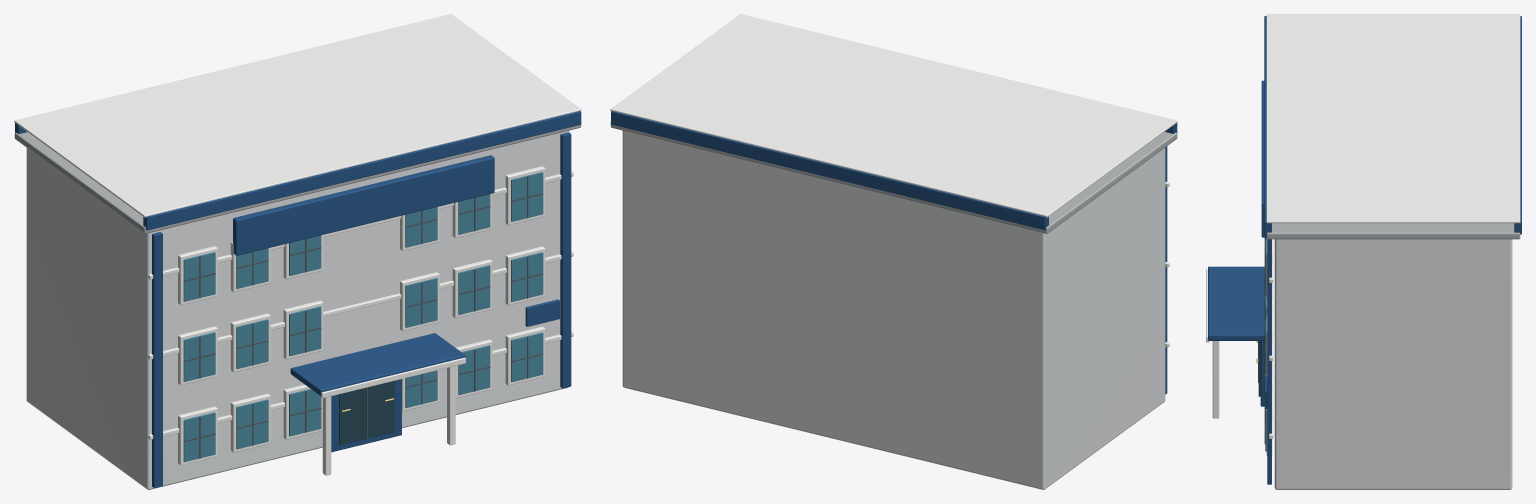
The model's file is PoliceStation.fbx.
The picture shows the model from 3 angles, left to right: view 1: azimuth 30°, elevation 25°; view 2: azimuth 150°, elevation 25°; view 3: azimuth 270°, elevation 25°; orthographic projection. The views are drawn at different scales.
Visible parts, largest first — view 1: Main three-storey Balai Polis, Roof top trim, Main Balai Polis signboard, Roof front parapet, Entrance canopy roof, Roof slab, Right blue facade strip, Entrance glass double doors, Left blue facade strip, Blue tinted glazing floor 2.003, Blue tinted glazing floor 2.001, Blue tinted glazing floor 1.001 (+33 smaller); view 2: Main three-storey Balai Polis, Roof top trim, Roof rear parapet, Roof slab, Left blue facade strip; view 3: Main three-storey Balai Polis, Roof top trim, Entrance canopy roof, Roof slab, Right blue facade strip, Roof front parapet, Main Balai Polis signboard, Canopy support column.001, Roof rear parapet.
Part boxes in pixels (x1=…): Main three-storey Balai Polis: x1=26, y1=130, x2=569, y2=489; Roof top trim: x1=14, y1=14, x2=581, y2=217; Main Balai Polis signboard: x1=233, y1=155, x2=494, y2=255; Roof front parapet: x1=143, y1=111, x2=581, y2=230; Entrance canopy roof: x1=290, y1=333, x2=465, y2=395; Roof slab: x1=14, y1=124, x2=581, y2=233; Right blue facade strip: x1=560, y1=132, x2=571, y2=388; Entrance glass double doors: x1=339, y1=381, x2=394, y2=445; Left blue facade strip: x1=152, y1=232, x2=162, y2=487; Blue tinted glazing floor 2.003: x1=405, y1=278, x2=437, y2=327; Blue tinted glazing floor 2.001: x1=236, y1=319, x2=268, y2=368; Blue tinted glazing floor 1.001: x1=236, y1=399, x2=268, y2=449; Main three-storey Balai Polis: x1=622, y1=130, x2=1165, y2=489; Roof top trim: x1=610, y1=14, x2=1177, y2=217; Roof rear parapet: x1=611, y1=111, x2=1048, y2=230; Roof slab: x1=610, y1=122, x2=1177, y2=233; Left blue facade strip: x1=1165, y1=146, x2=1167, y2=394; Main three-storey Balai Polis: x1=1274, y1=239, x2=1512, y2=489; Roof top trim: x1=1266, y1=14, x2=1520, y2=223; Entrance canopy roof: x1=1208, y1=266, x2=1264, y2=340; Roof slab: x1=1266, y1=223, x2=1520, y2=239; Right blue facade strip: x1=1267, y1=239, x2=1271, y2=484; Roof front parapet: x1=1264, y1=16, x2=1271, y2=234; Main Balai Polis signboard: x1=1261, y1=80, x2=1266, y2=237; Canopy support column.001: x1=1212, y1=341, x2=1219, y2=418; Roof rear parapet: x1=1514, y1=16, x2=1521, y2=234.
Bounding box in the file's own units: 1854 × 1136 × 1191.
